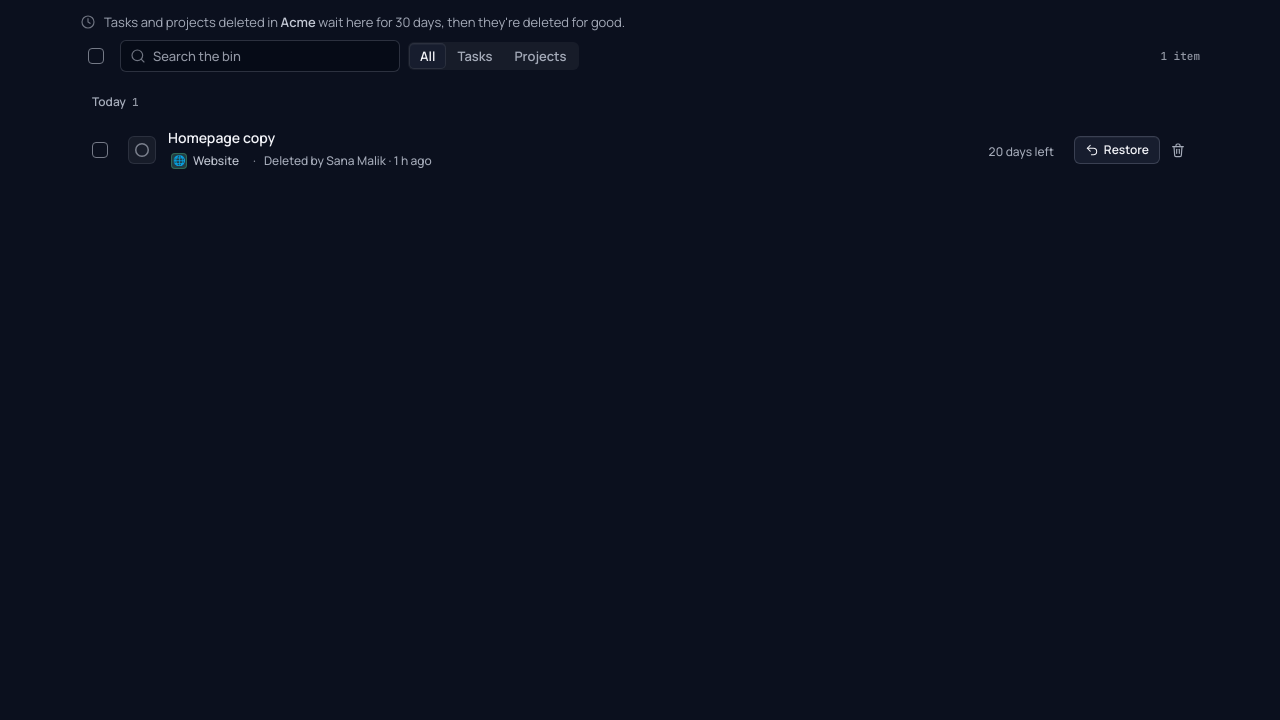
Test: RecycleBin states › a team item an admin can't purge any more says so in the dialog
Click the button named "Delete “Homepage copy” forever" at (1178,150), box x1=1164 y1=136 x2=1192 y2=164
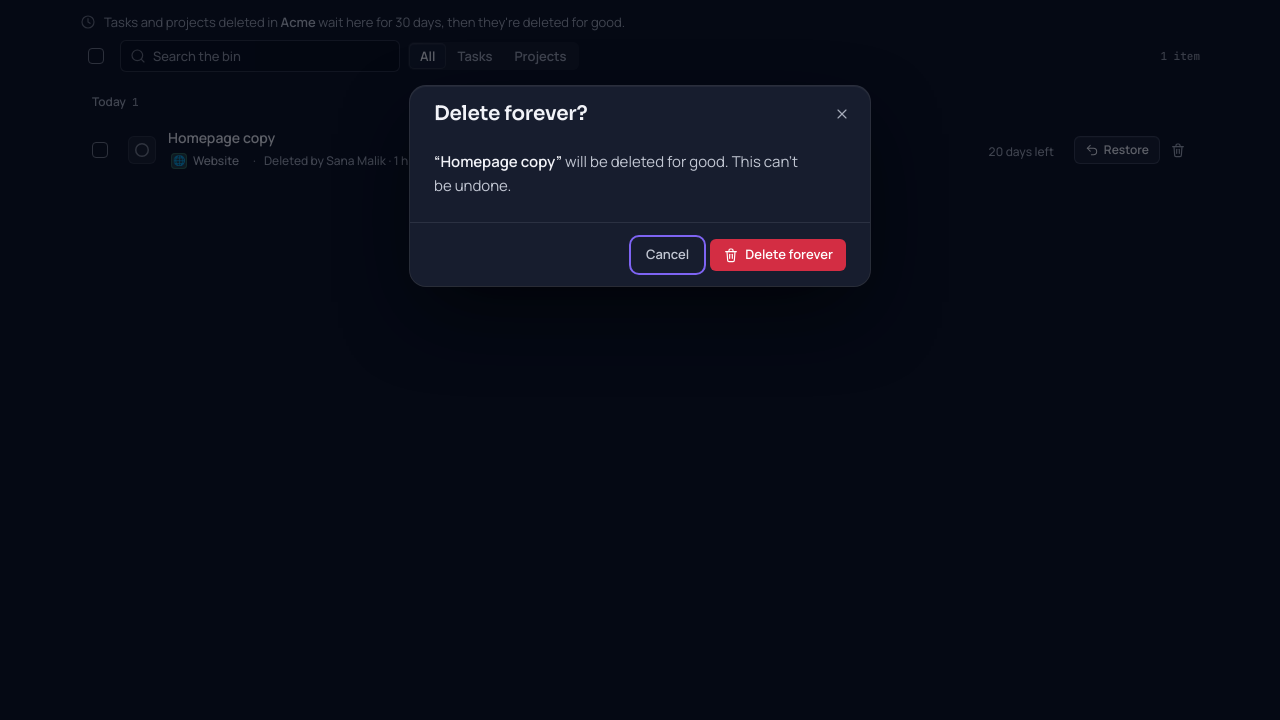
Click the button "Delete forever" at (778,255), box x1=710 y1=239 x2=846 y2=271
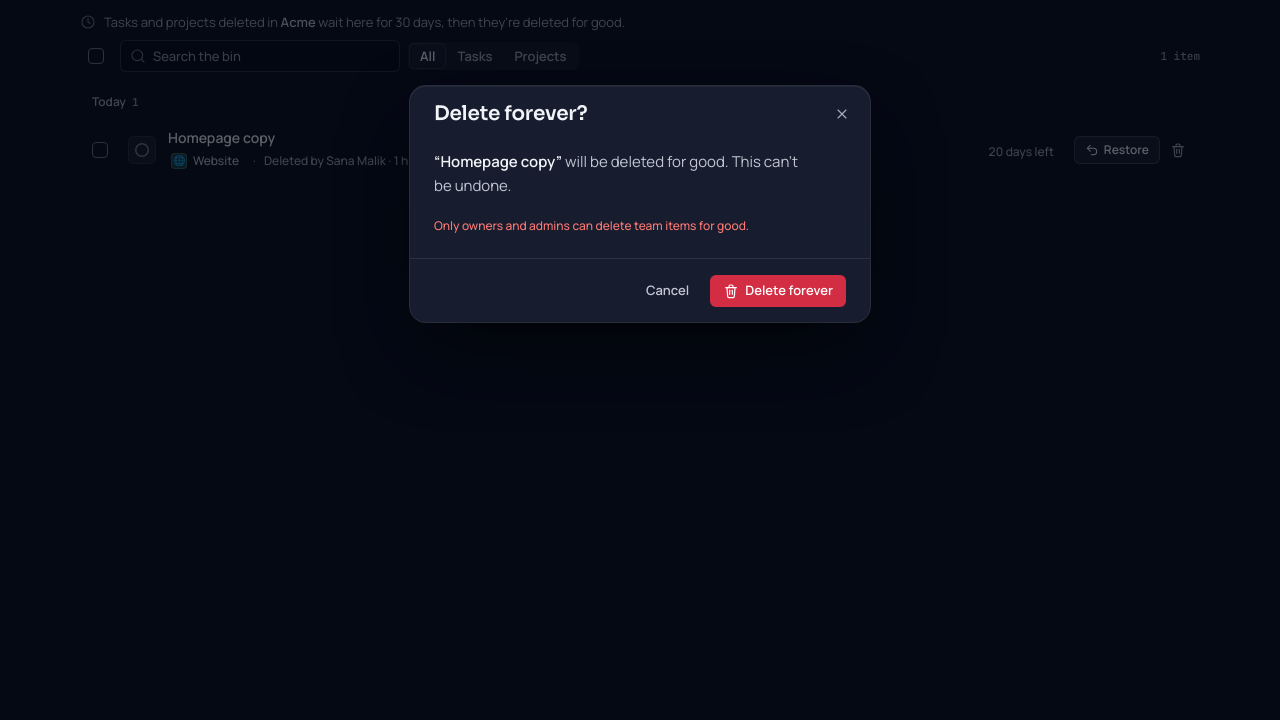
Result: the message reads "Only owners and admins can delete team items for good." at x1=434 y1=217 x2=749 y2=234
